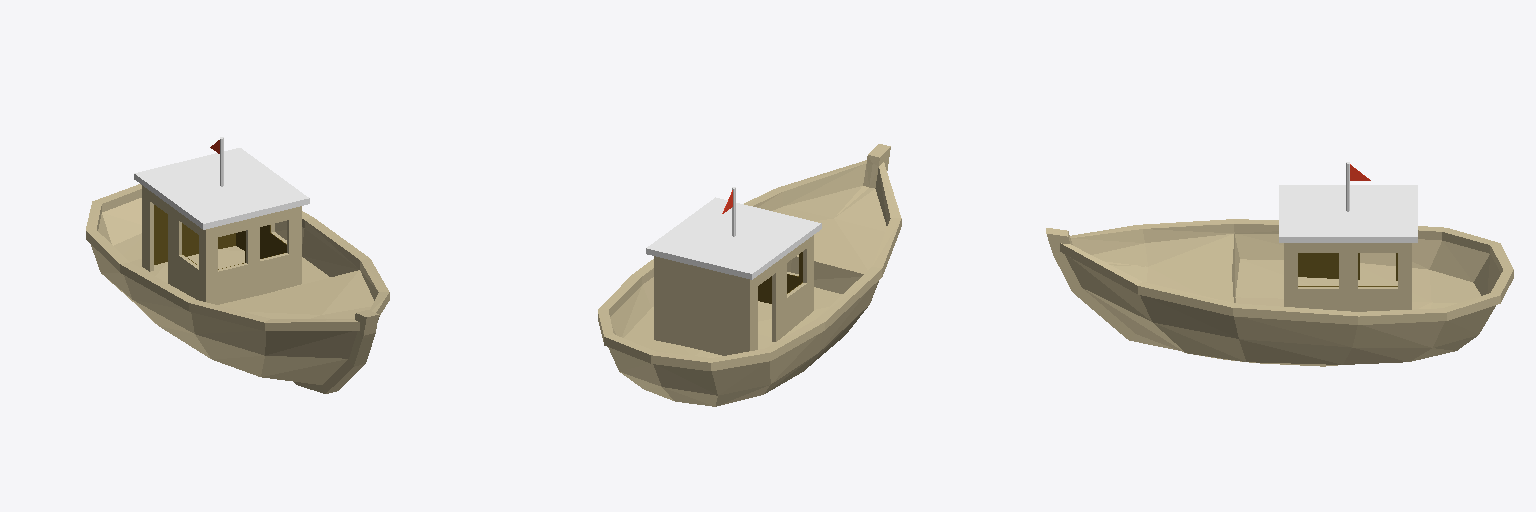
File: boat.obj
3 views of the same model, side by side, from view 1: azimuth 30°, elevation 25°; view 2: azimuth 150°, elevation 25°; view 3: azimuth 270°, elevation 25° (orthographic).
Parts seen in each view (by area): view 1: body, house, roof, houseIn; view 2: body, house, roof, houseIn; view 3: body, roof, house, houseIn.
Part boxes in pixels (bbox=[...]): body: bbox=[86, 184, 389, 393]; house: bbox=[142, 185, 301, 304]; roof: bbox=[134, 148, 309, 229]; houseIn: bbox=[154, 205, 286, 269]; body: bbox=[598, 144, 901, 406]; house: bbox=[654, 235, 813, 355]; roof: bbox=[646, 197, 821, 279]; houseIn: bbox=[758, 252, 802, 303]; body: bbox=[1046, 219, 1513, 366]; roof: bbox=[1279, 185, 1417, 242]; house: bbox=[1284, 243, 1411, 311]; houseIn: bbox=[1298, 253, 1397, 286].
Size of the model in its own units: 2.31 by 2.13 by 4.84.